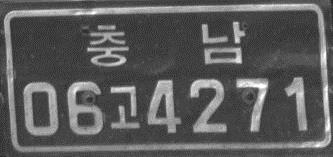0: (20, 79, 60, 140)
1: (282, 75, 312, 135)
2: (188, 76, 229, 135)
4: (144, 77, 183, 136)
6: (65, 79, 104, 139)
7: (232, 74, 272, 135)
고: (106, 82, 141, 132)
충남_D: (85, 17, 249, 69)
